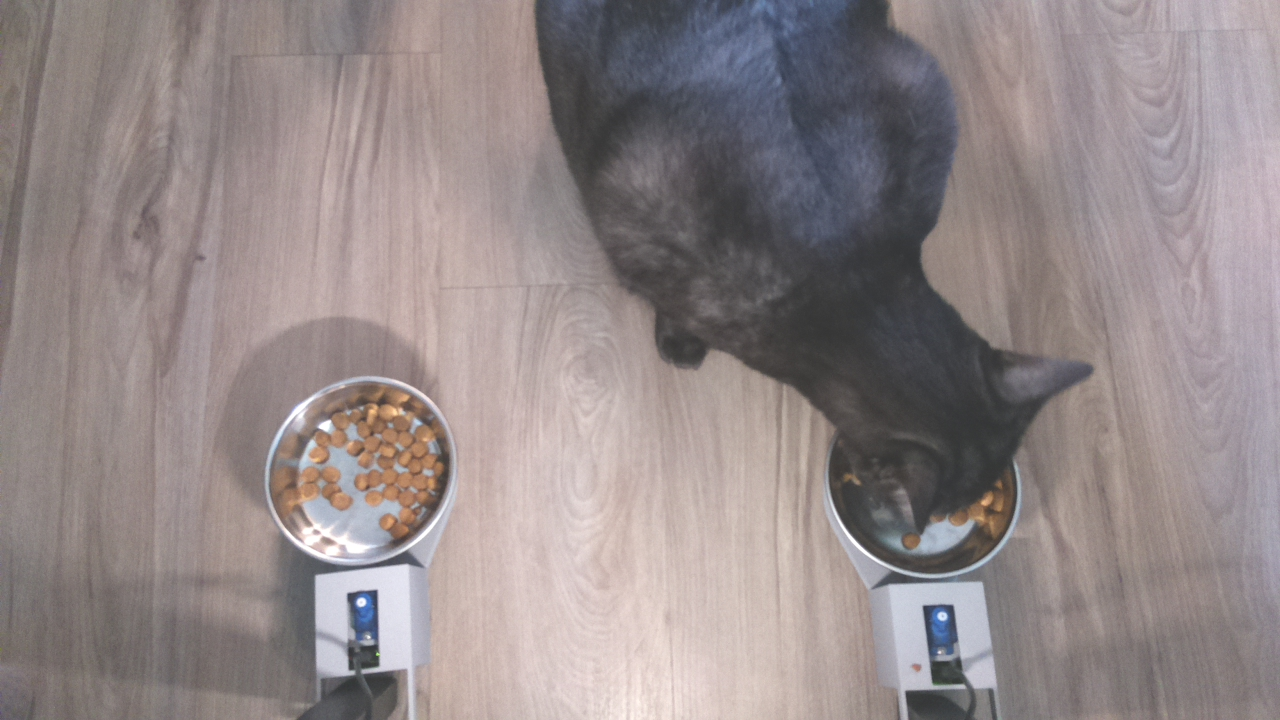open_bowl: (259, 375, 461, 571)
saki_eating: (814, 270, 1107, 585)
